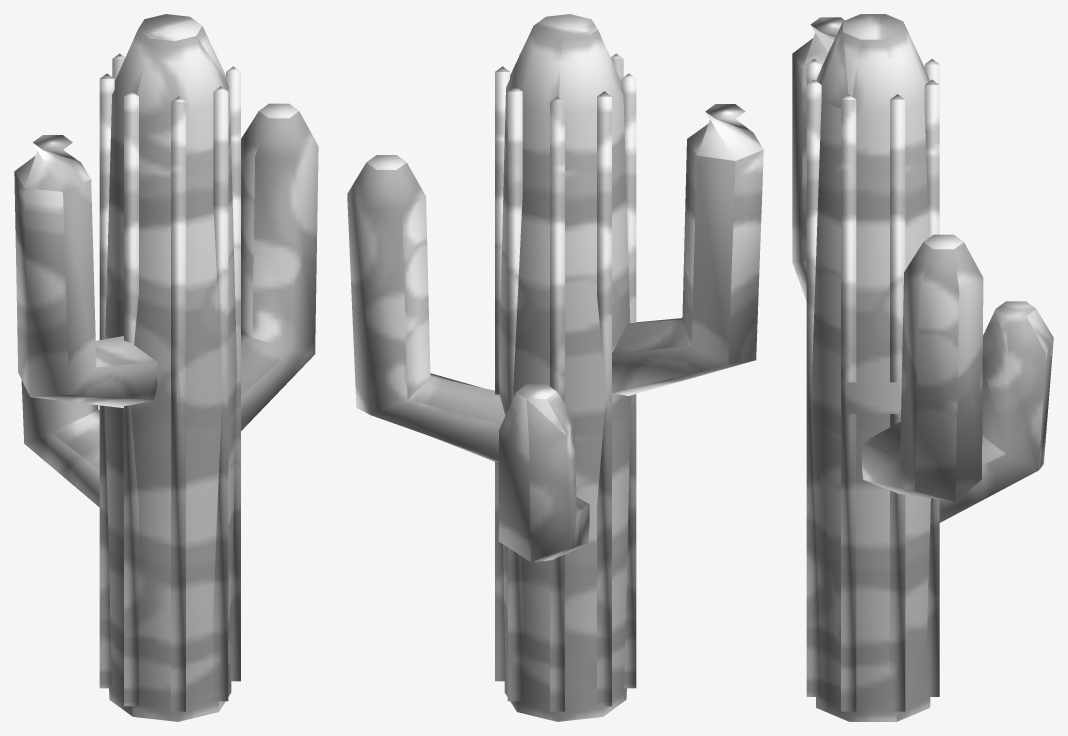
Rendered from tree_cactus.obj.
The picture shows the model from 3 angles, left to right: view 1: azimuth 30°, elevation 25°; view 2: azimuth 150°, elevation 25°; view 3: azimuth 270°, elevation 25°; orthographic projection.
Parts seen in each view (by area): view 1: source_component_000, source_component_010, source_component_009, source_component_006, source_component_007, source_component_005, source_component_011, source_component_004, source_component_008; view 2: source_component_000, source_component_009, source_component_010, source_component_011, source_component_004, source_component_003, source_component_002, source_component_005, source_component_001; view 3: source_component_000, source_component_009, source_component_011, source_component_008, source_component_001, source_component_007, source_component_010, source_component_002.
Part boxes in pixels (x1,y1,x2,y2): source_component_000: (105, 14, 236, 721); source_component_010: (14, 135, 157, 408); source_component_009: (241, 103, 318, 430); source_component_006: (171, 96, 185, 711); source_component_007: (213, 86, 228, 701); source_component_005: (124, 91, 138, 706); source_component_011: (21, 380, 99, 507); source_component_004: (99, 73, 114, 688); source_component_008: (226, 66, 240, 681); source_component_000: (499, 14, 631, 721); source_component_009: (347, 155, 505, 462); source_component_010: (612, 104, 763, 395); source_component_011: (498, 384, 589, 562); source_component_004: (597, 91, 611, 706); source_component_003: (550, 96, 564, 711); source_component_002: (507, 86, 522, 701); source_component_005: (621, 73, 636, 688); source_component_001: (495, 66, 509, 681); source_component_000: (811, 14, 930, 721); source_component_009: (862, 234, 983, 501); source_component_011: (939, 301, 1053, 522); source_component_008: (841, 94, 856, 711); source_component_001: (890, 94, 905, 711); source_component_007: (806, 79, 821, 696); source_component_010: (792, 17, 844, 300); source_component_002: (924, 79, 939, 696).
Bounding box in the file's own units: 0.5549 × 1.02 × 0.3603.
